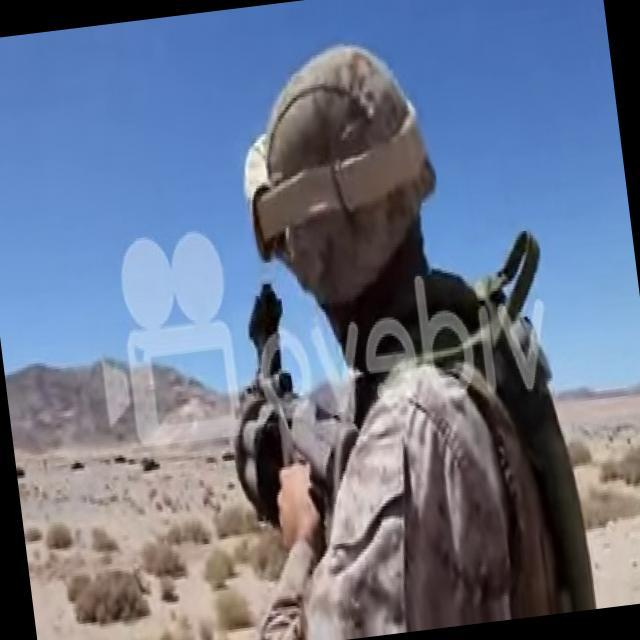rocket: (216, 294, 352, 545)
